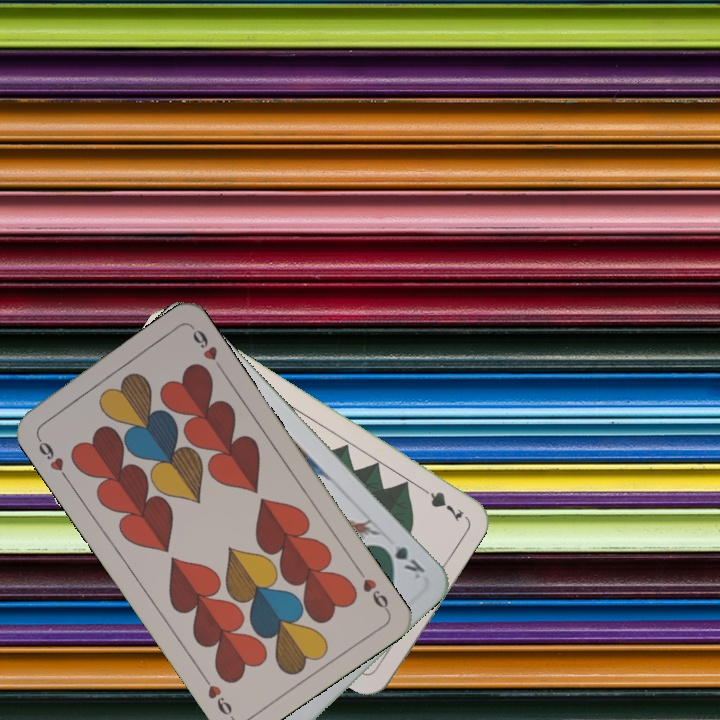G7: (414, 481, 466, 525)
GK: (377, 540, 428, 582)
H9: (352, 563, 392, 615), (32, 431, 71, 483)
